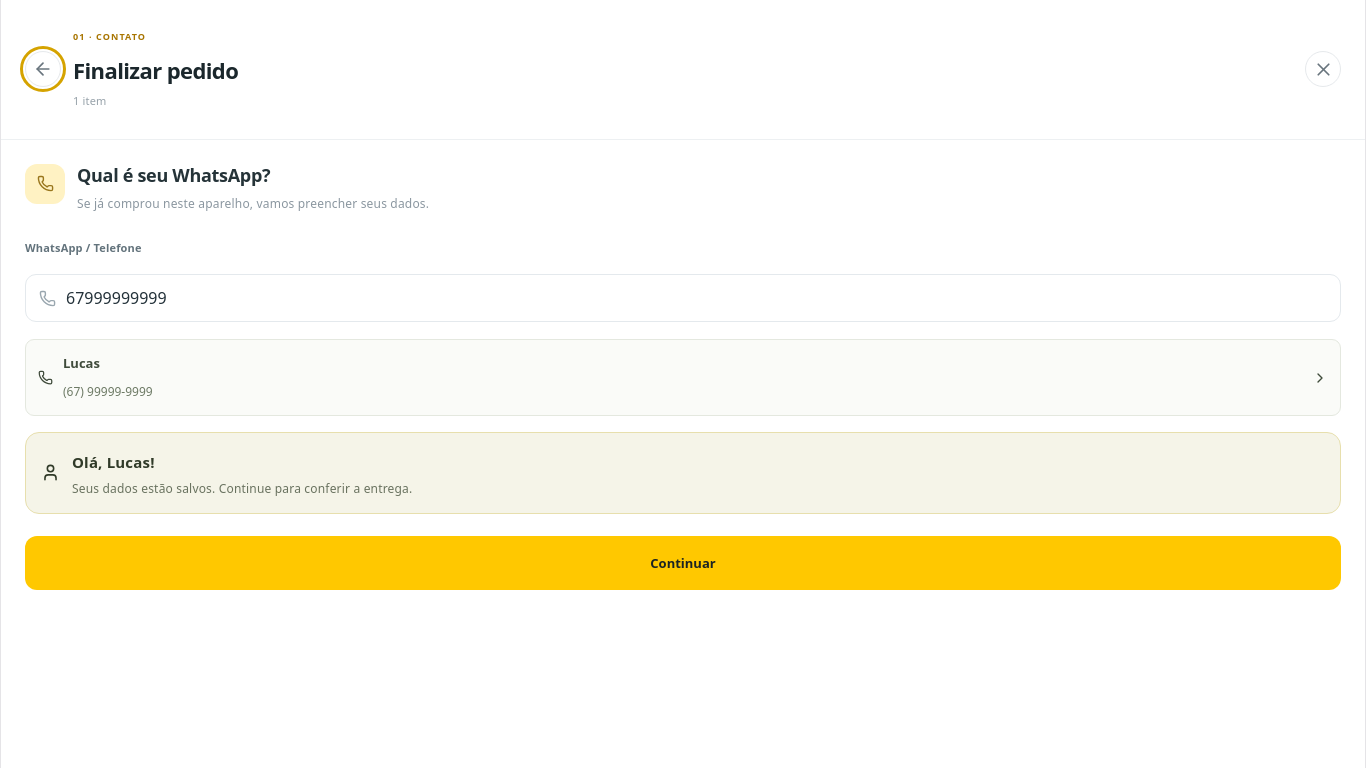
Test: sugestão de telefone reconhece cliente sem esperar a recuperação do CPF
Click the button "Lucas (67) 99999-9999": (81, 363) top-left (25, 339), bottom-right (1341, 416)
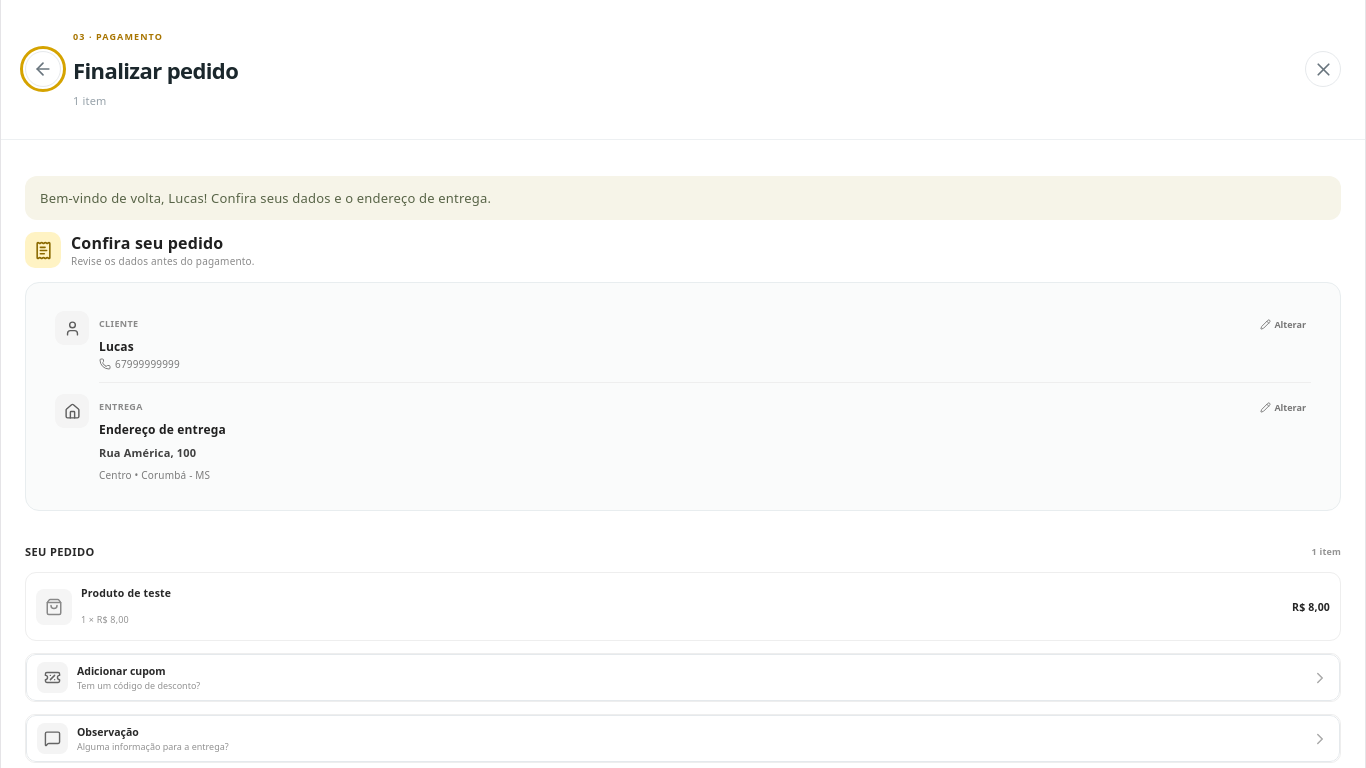
Check: the heading "Confira seu pedido" is shown, box top-left (71, 232), bottom-right (223, 254)
Check: the text "Rua América, 100" is shown, box top-left (99, 445), bottom-right (196, 460)
